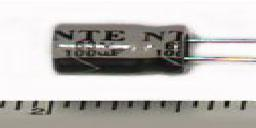Electrolytic Capacitor: (50, 17, 256, 79)
